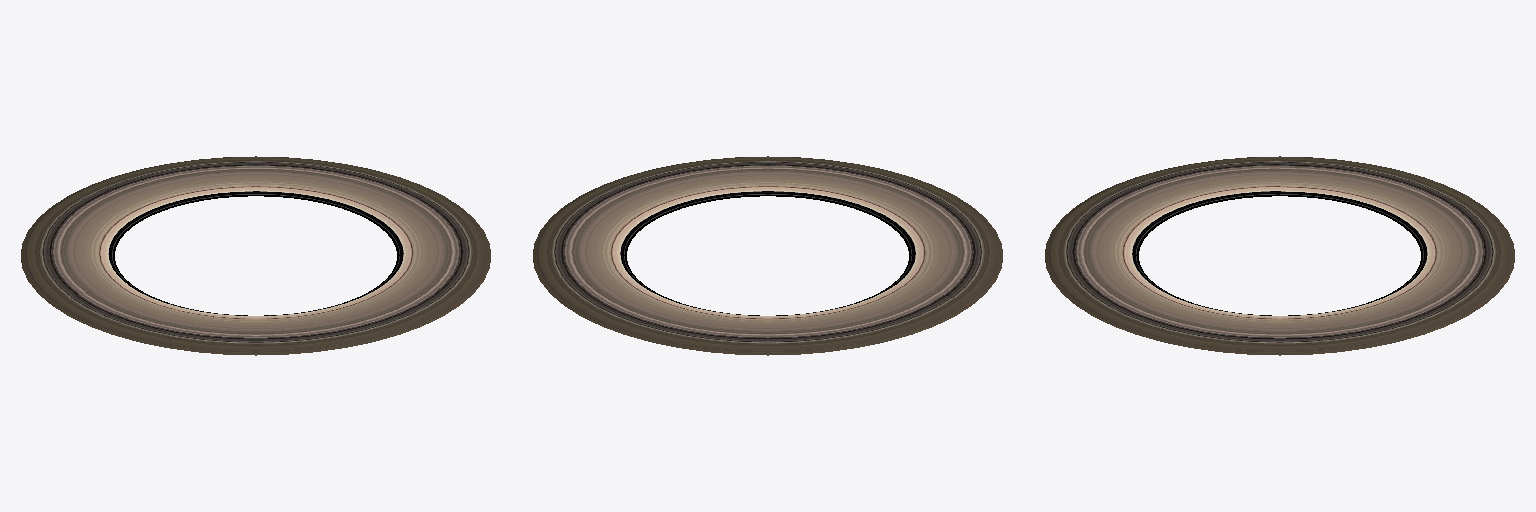
3 renders of one model, left to right at view 1: azimuth 30°, elevation 25°; view 2: azimuth 150°, elevation 25°; view 3: azimuth 270°, elevation 25°, orthographic.
Visible parts, largest first — view 1: Torus; view 2: Torus; view 3: Torus.
Boxes of the visible parts, x1,y1,x2,y2 form: Torus: [21, 156, 490, 355]; Torus: [533, 156, 1002, 355]; Torus: [1045, 156, 1514, 355].
Size of the model in its own units: 4.43 by 0.0953 by 4.43.
1 materials, 1 textured.